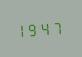four: (40, 20, 50, 36)
nine: (29, 20, 39, 37)
one: (18, 21, 28, 37)
seven: (51, 19, 61, 35)
